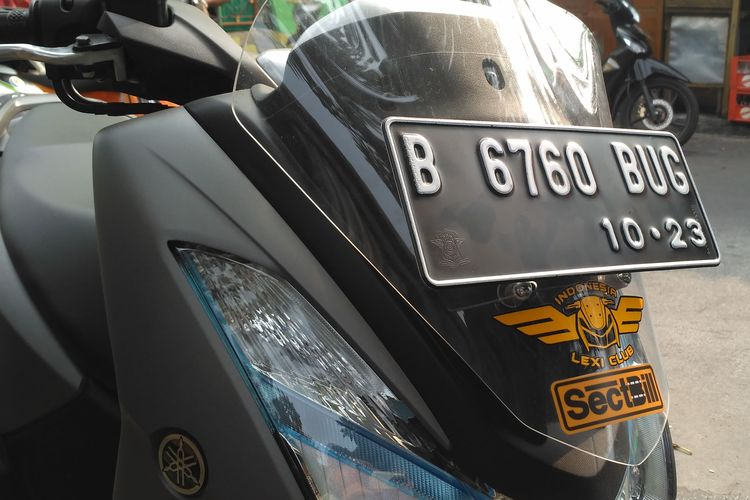plate: (393, 120, 713, 258)
